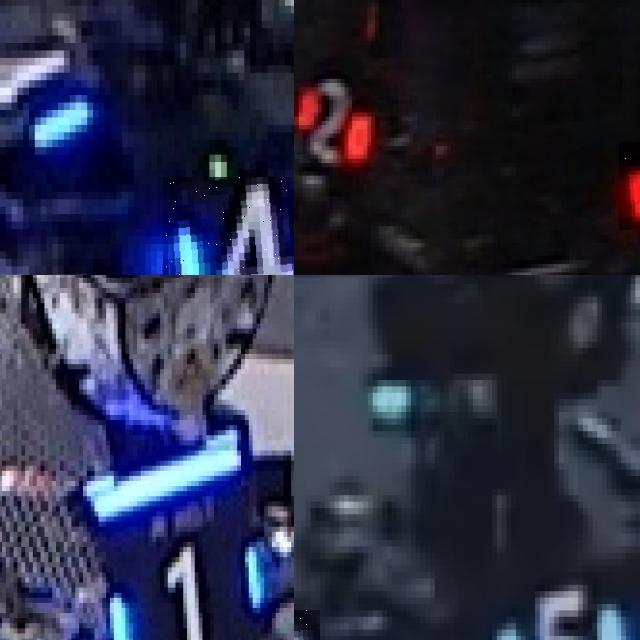B1: (106, 542, 264, 640)
B4: (162, 176, 294, 275)
B5: (492, 578, 630, 640)
R2: (294, 70, 371, 167)
